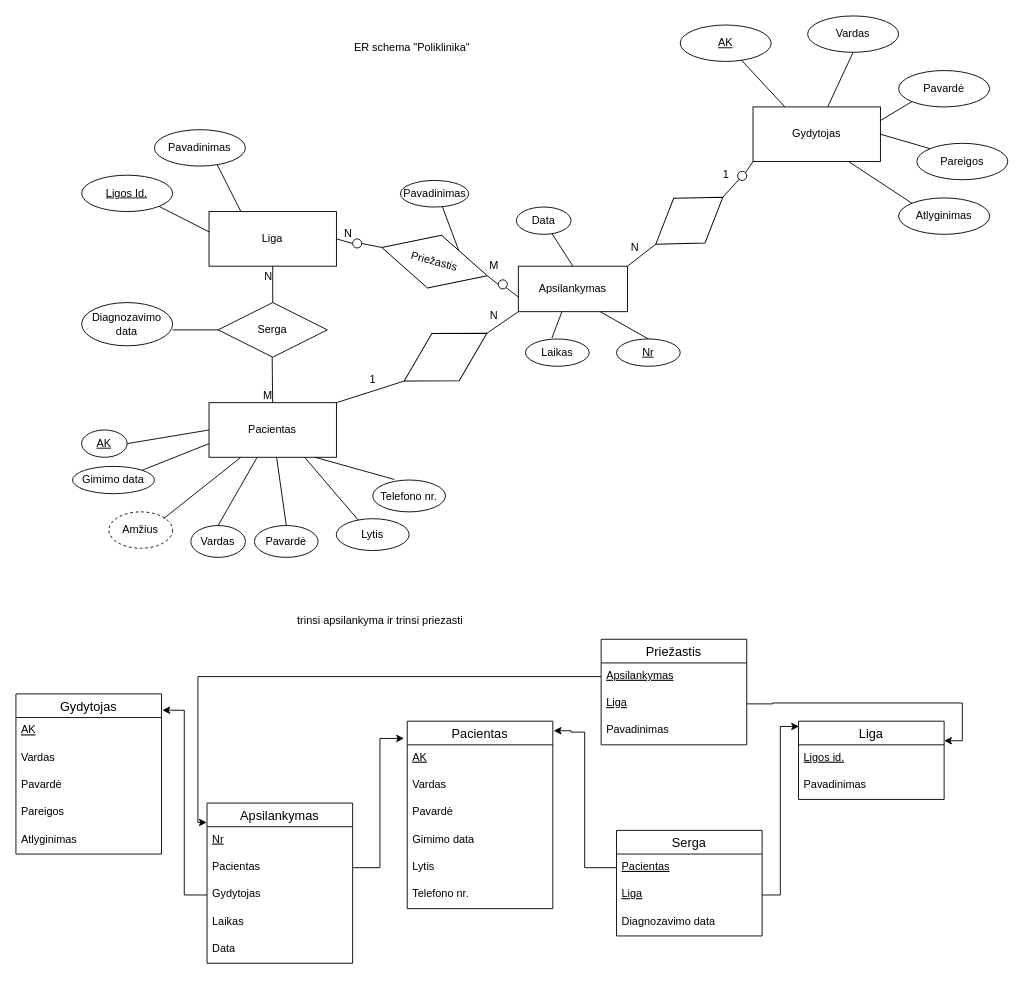
Image size: 1024x982. Some labels were removed from this diagram. The centre of each missing label's shape, as x and y in pixels:
"Apsilanko" goes at point (445, 357).
"Priėma" goes at point (689, 220).
